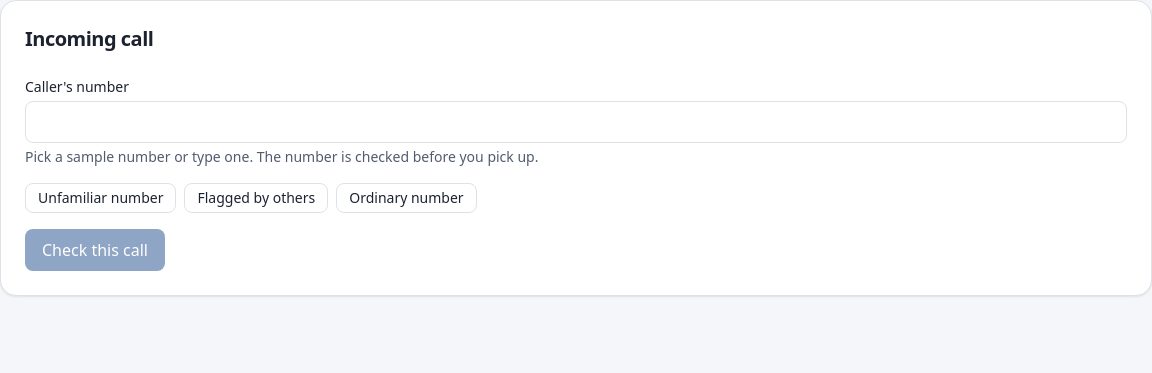
Test: IncomingCallScreen › never labels a caller as safe, verified, or official
Step 1. Click the button "Flagged by others" → (256, 198), box [184, 183, 328, 213]
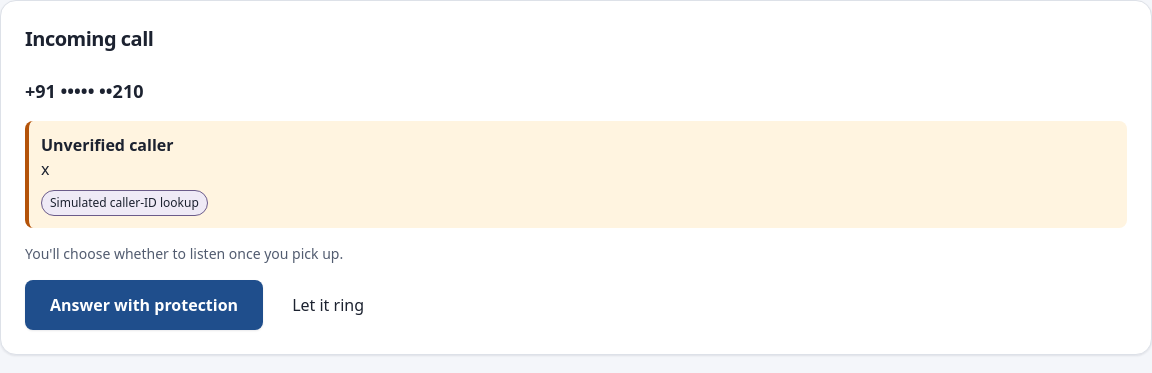
expect the message "Unverified caller x Simulated caller-ID lookup" is shown: met, box [25, 121, 1127, 228]
